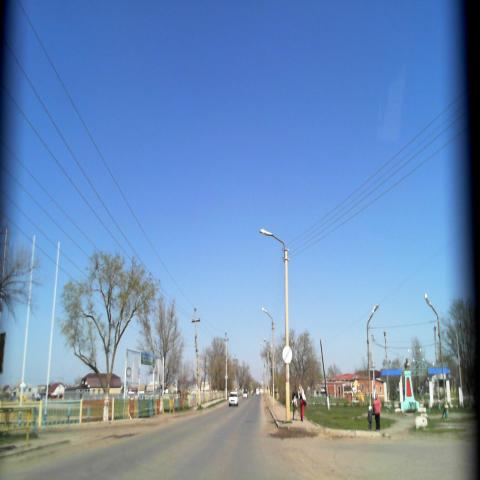3_31: (282, 345, 293, 364)
